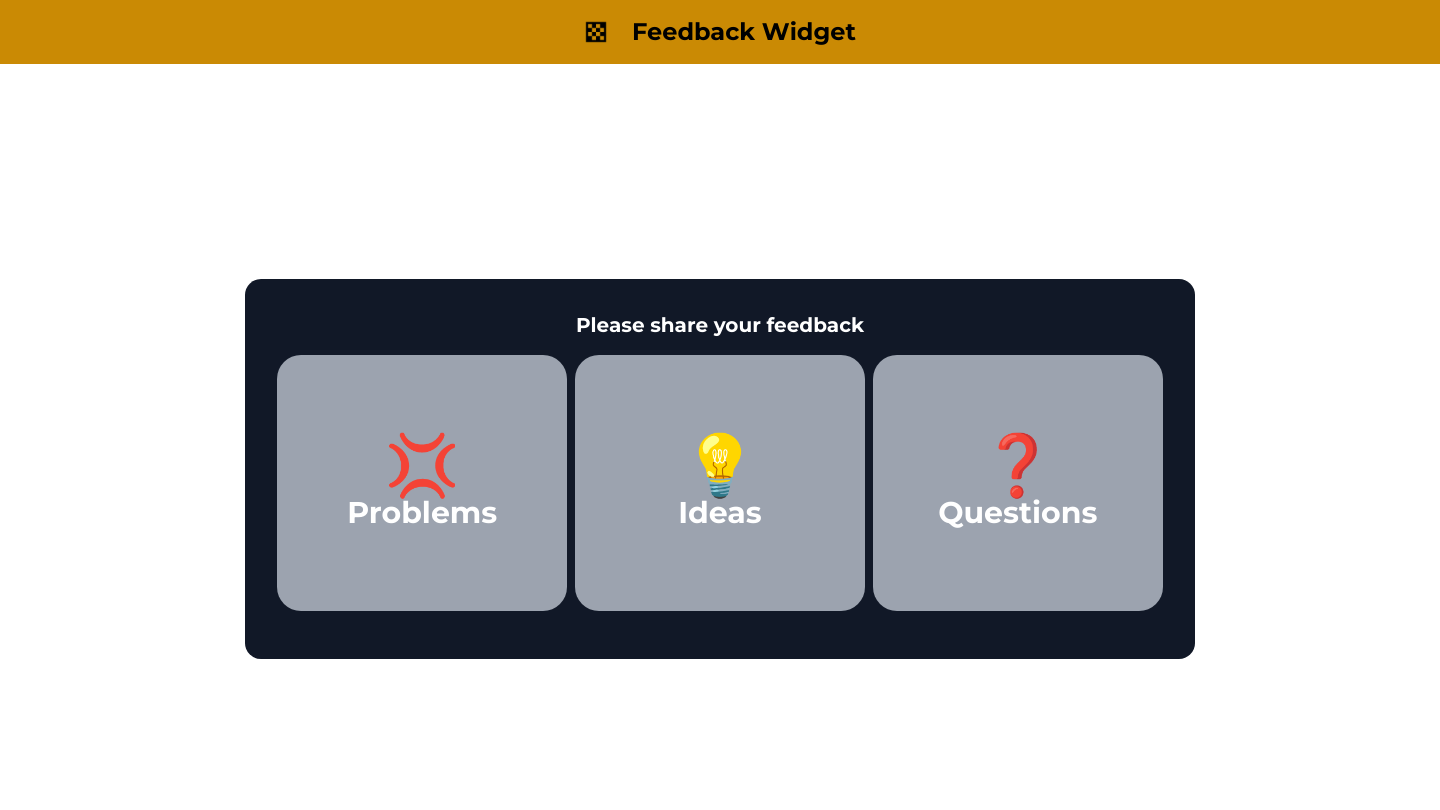
Test: <FeedbackWidget /> › should render feedback elements
Check: the heading "Please share your feedback" is shown, box 576,311 -> 864,339
Check: the button "💢 Problems" is shown, box 277,355 -> 567,611
Click the button "❓ Questions".
click(1018, 483)  # box 873,355 -> 1163,611
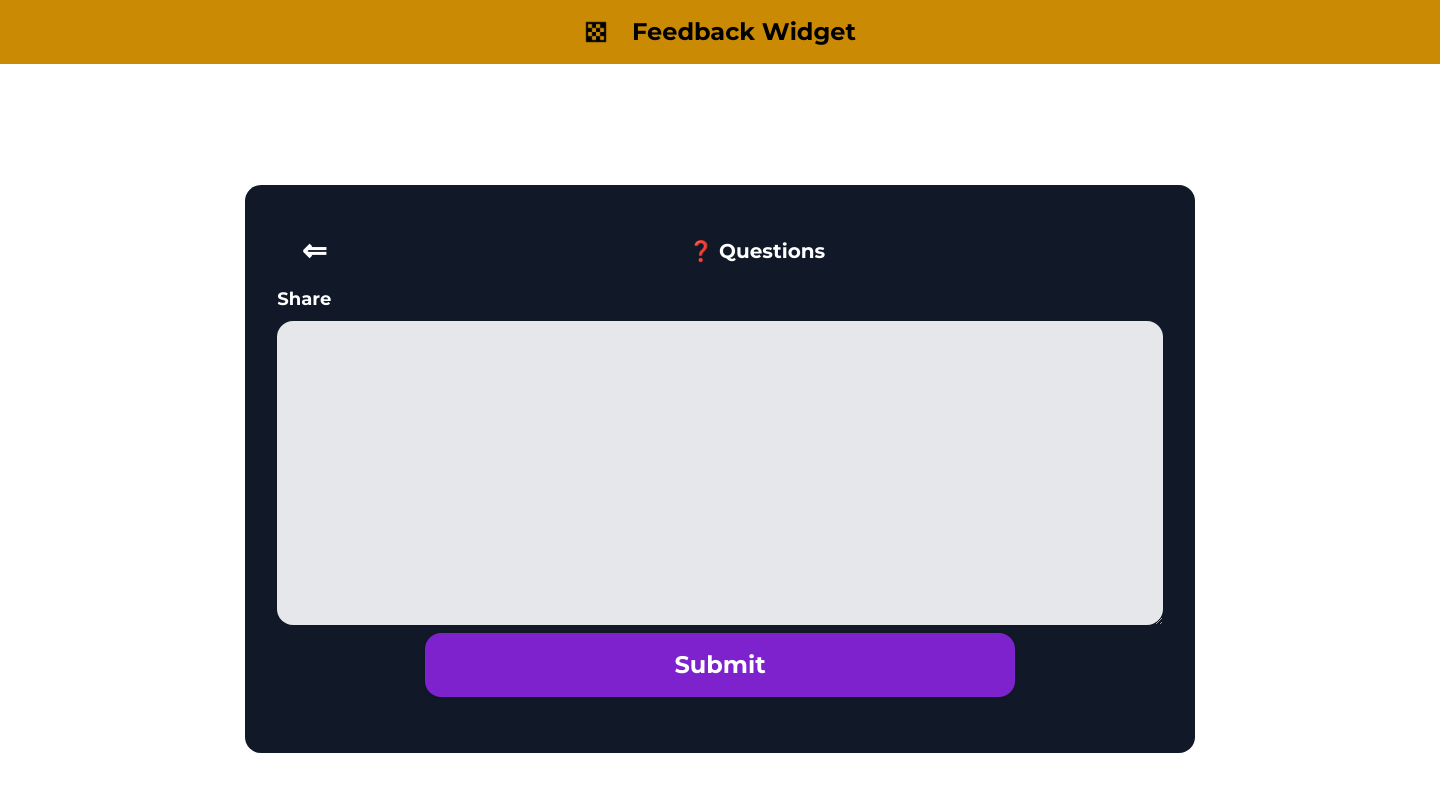
Check: the text box labelled "Share" is shown
Check: the button "Submit" is shown, box 425,633 -> 1015,697
Type "Hello" into the text box labelled "Share".
click(720, 473); type("Hello")  # box 277,321 -> 1163,625
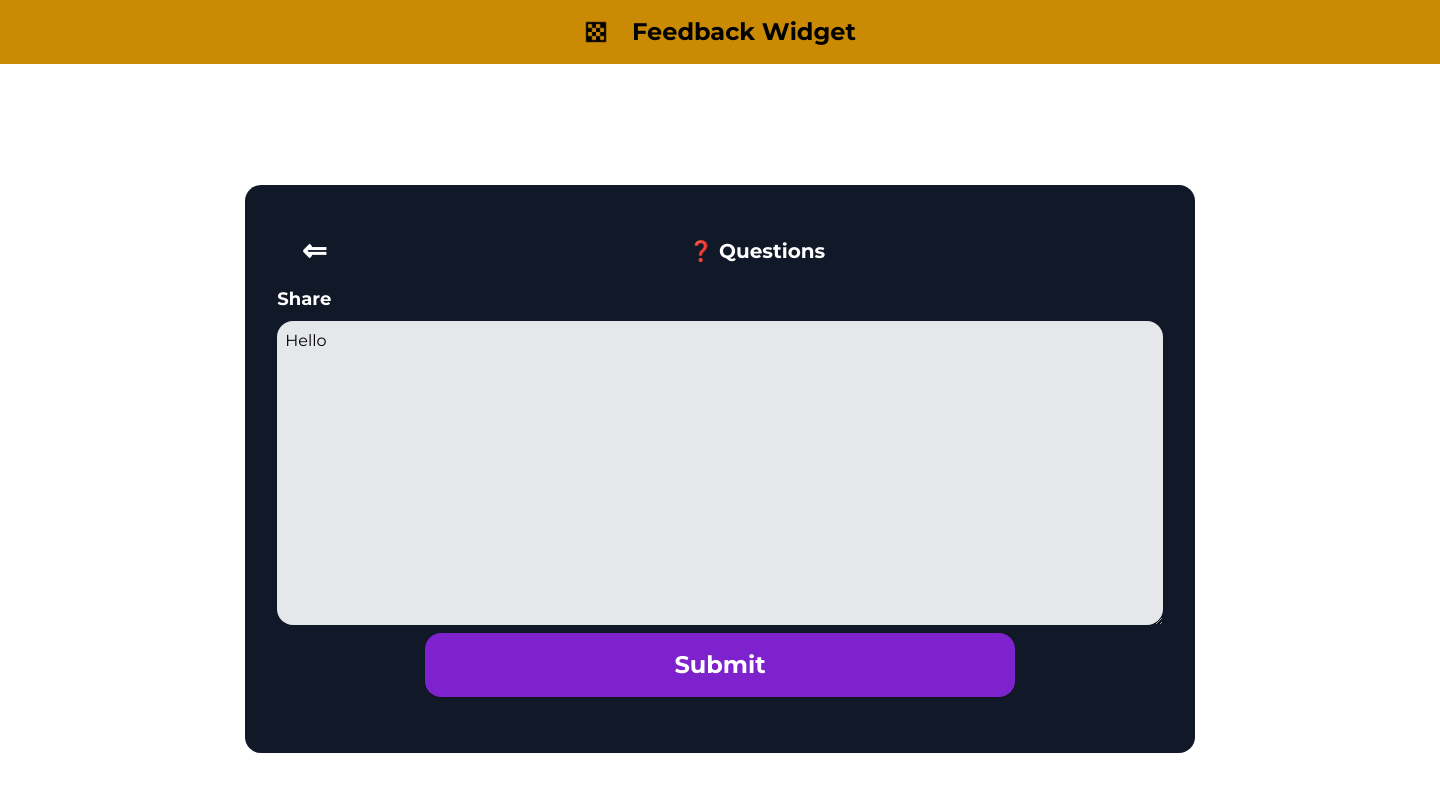
Click the button "Submit".
click(720, 665)  # box 425,633 -> 1015,697
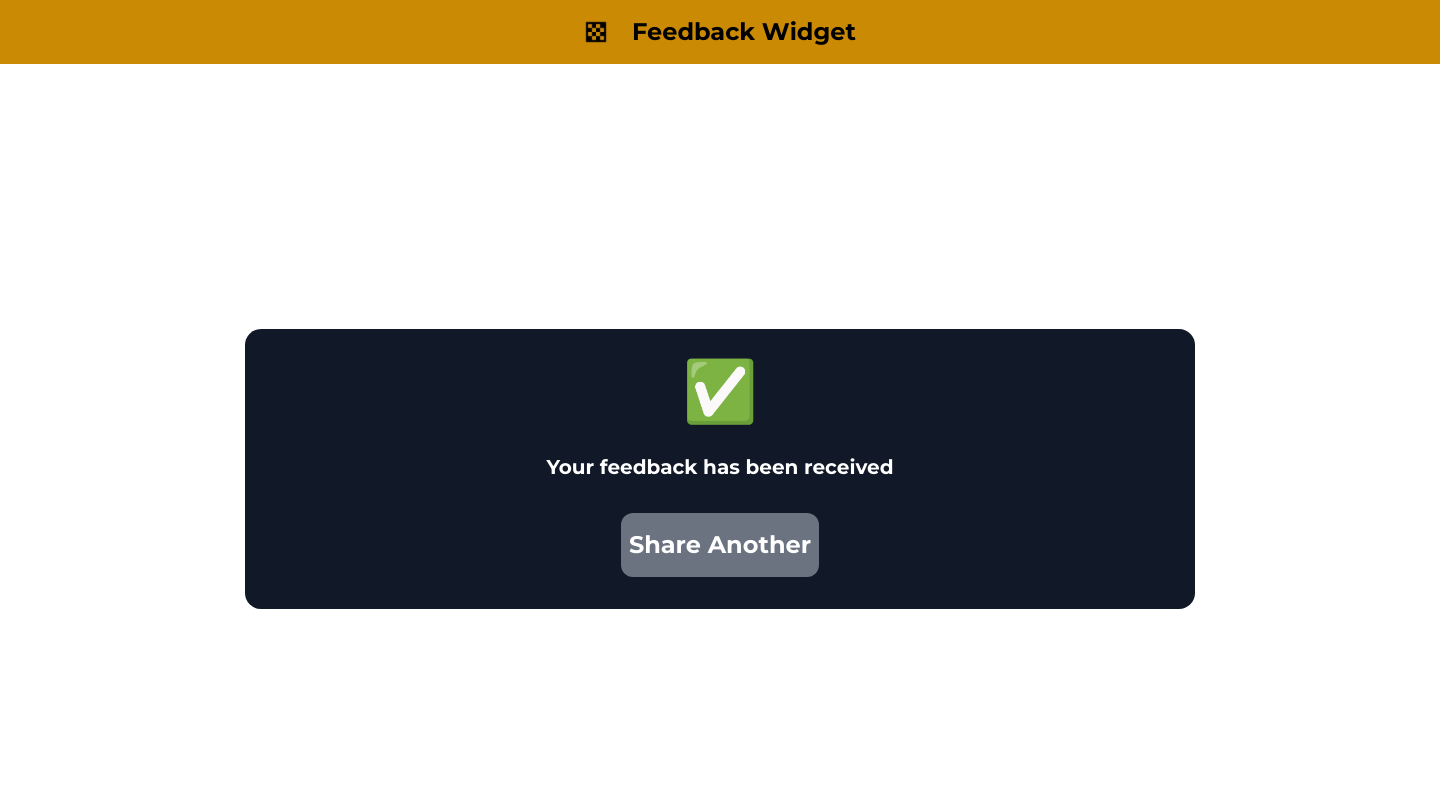
Check: the heading "Your feedback has been received" is shown, box 546,453 -> 894,481
Check: the button "Share Another" is shown, box 621,513 -> 819,577
